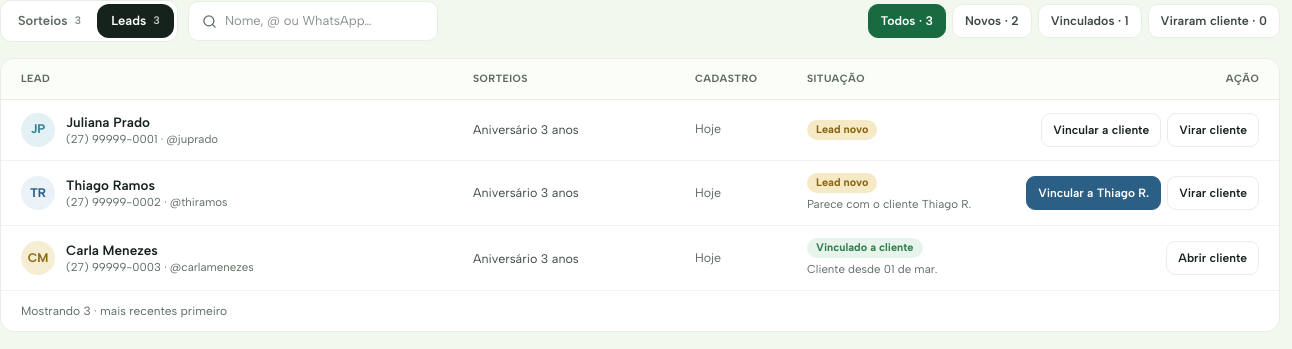
Scenario: LeadsClient › searches by name, @ or WhatsApp
Type "@thiramos" into the field named "Buscar lead" at [324, 21], box [225,11,424,31]
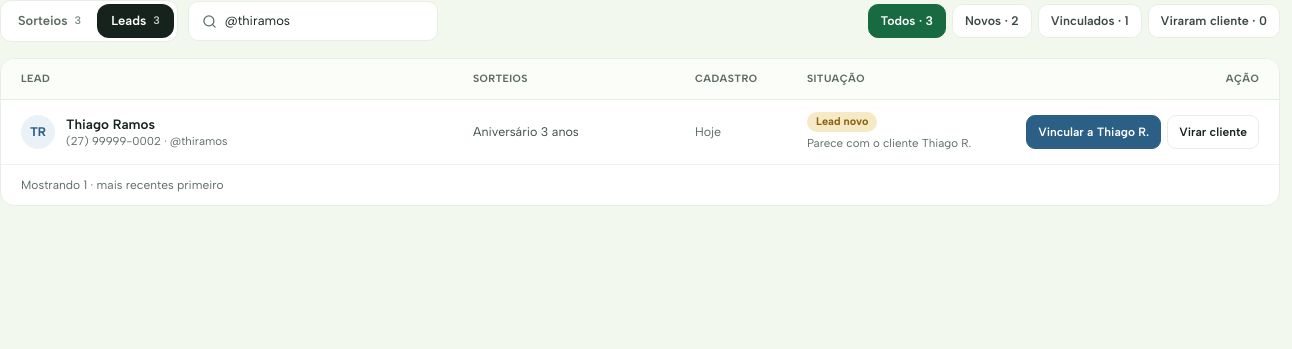
Expected: the text "Thiago Ramos" is shown, [66,116,155,132]
Expected: the text "Juliana Prado" is gone
